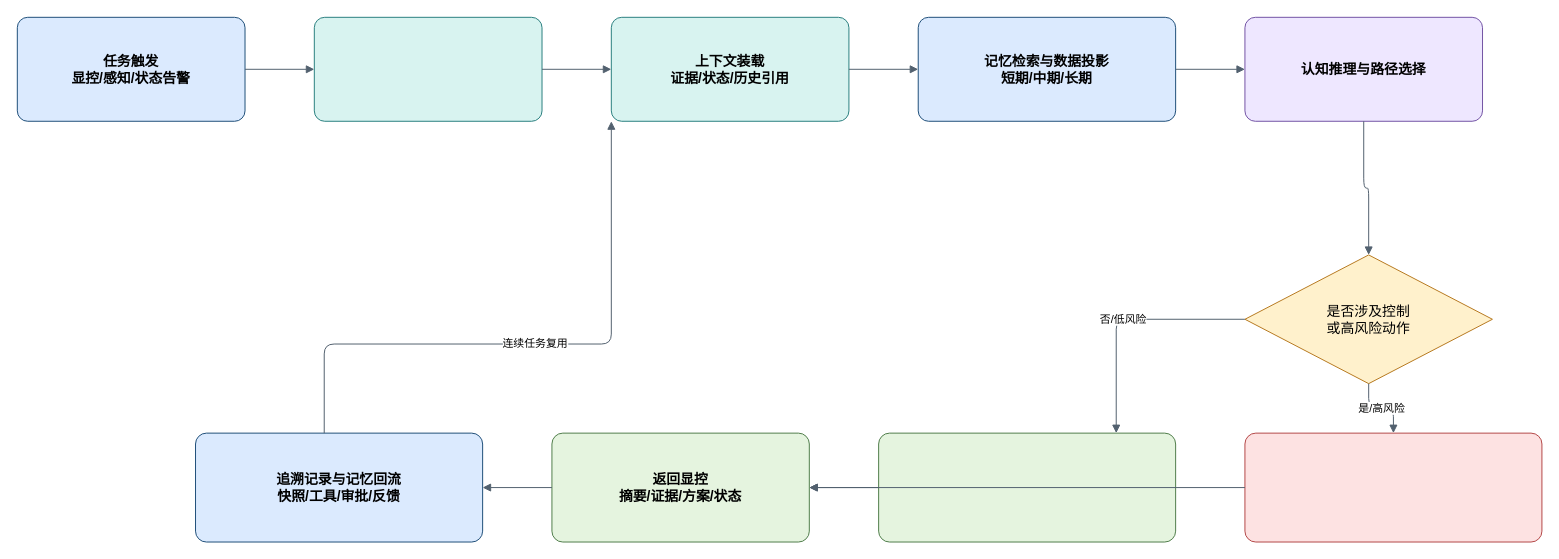
Some shapes in this 1559 by 559 pixel diagram are drawn without their labels. Each missing label, with the centre of its shape:
创建任务实例 ID/来源/目标/风险: the point at 427,68
受控执行流程 校验/仿真/审批/回滚: the point at 1393,487
只读研判/推荐生成 工具调用与证据整合: the point at 1027,487
